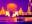Hotspot: (12, 10, 18, 17), (6, 11, 10, 16)
